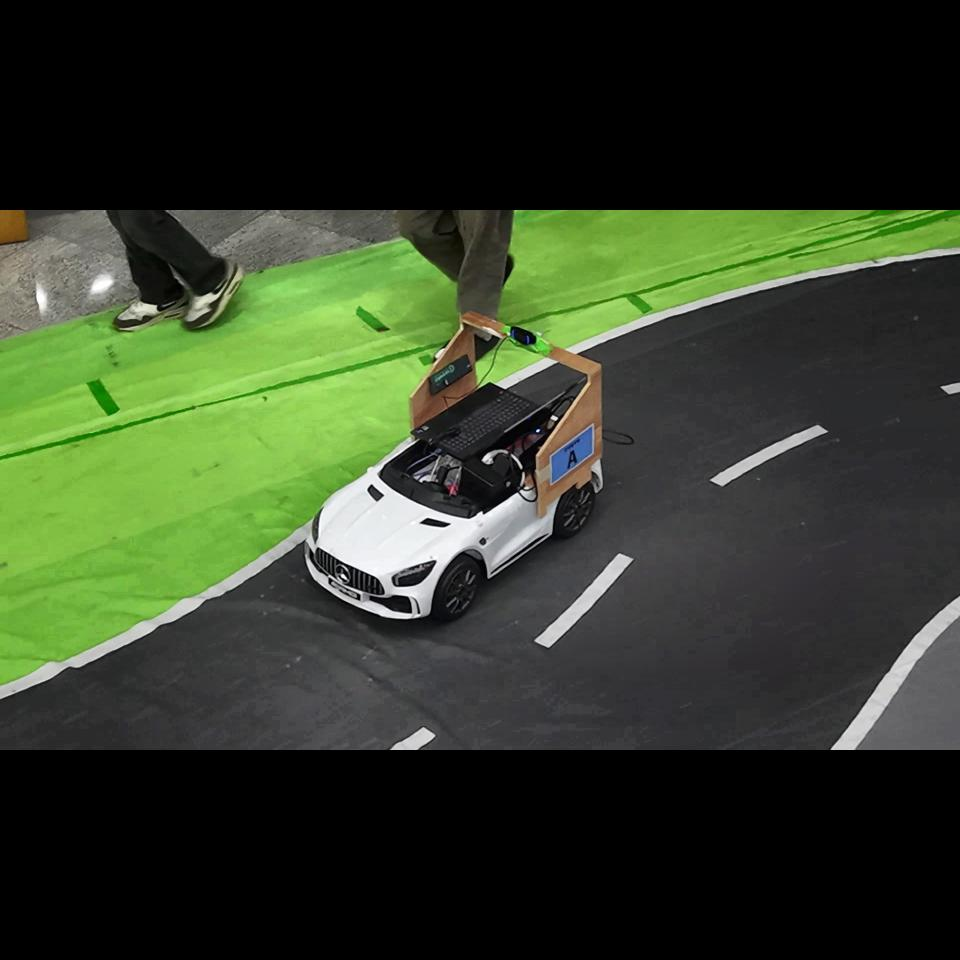broken_line: (534, 553, 634, 648), (710, 425, 829, 487), (390, 727, 436, 750), (940, 383, 960, 394)
